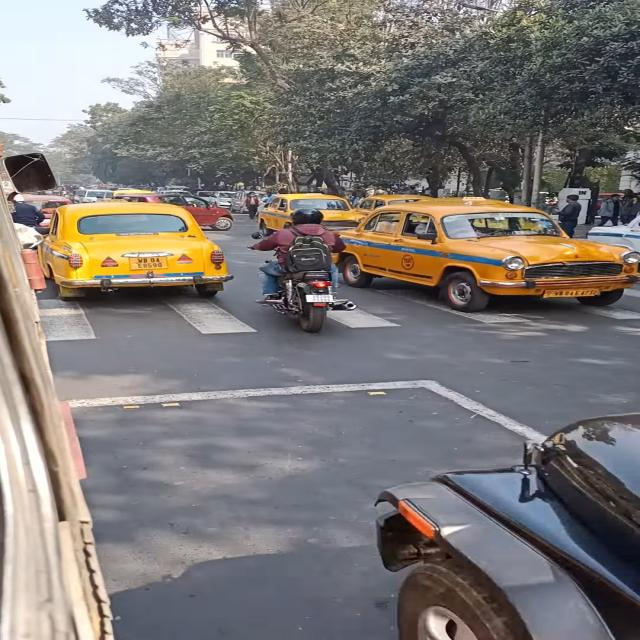Taxi: (369, 206, 640, 316)
